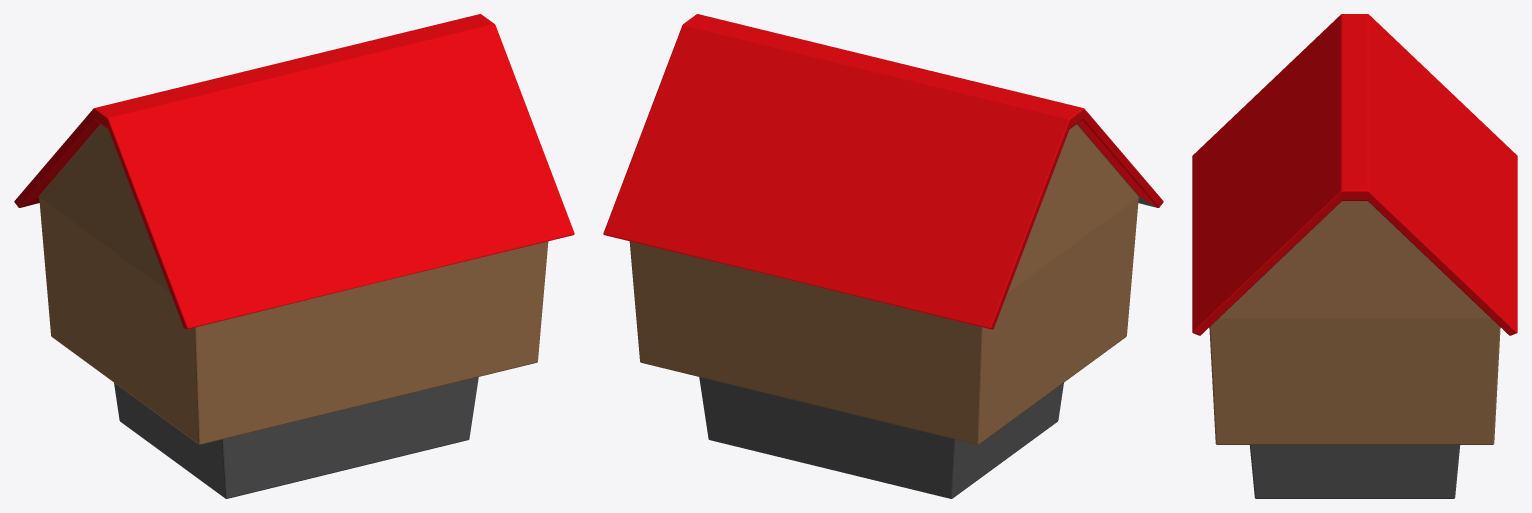
The model's file is house_base_1.fbx.
3 views of the same model, side by side, from view 1: azimuth 30°, elevation 25°; view 2: azimuth 150°, elevation 25°; view 3: azimuth 270°, elevation 25° (orthographic). The views are drawn at different scales.
Parts seen in each view (by area): view 1: BuildingBase; view 2: BuildingBase; view 3: BuildingBase.
Part boxes in pixels (x1,y1,x2,y2): BuildingBase: [14, 14, 574, 498]; BuildingBase: [603, 14, 1163, 498]; BuildingBase: [1192, 14, 1517, 498].
Bounding box in the file's own units: 1276 × 1148 × 991.
